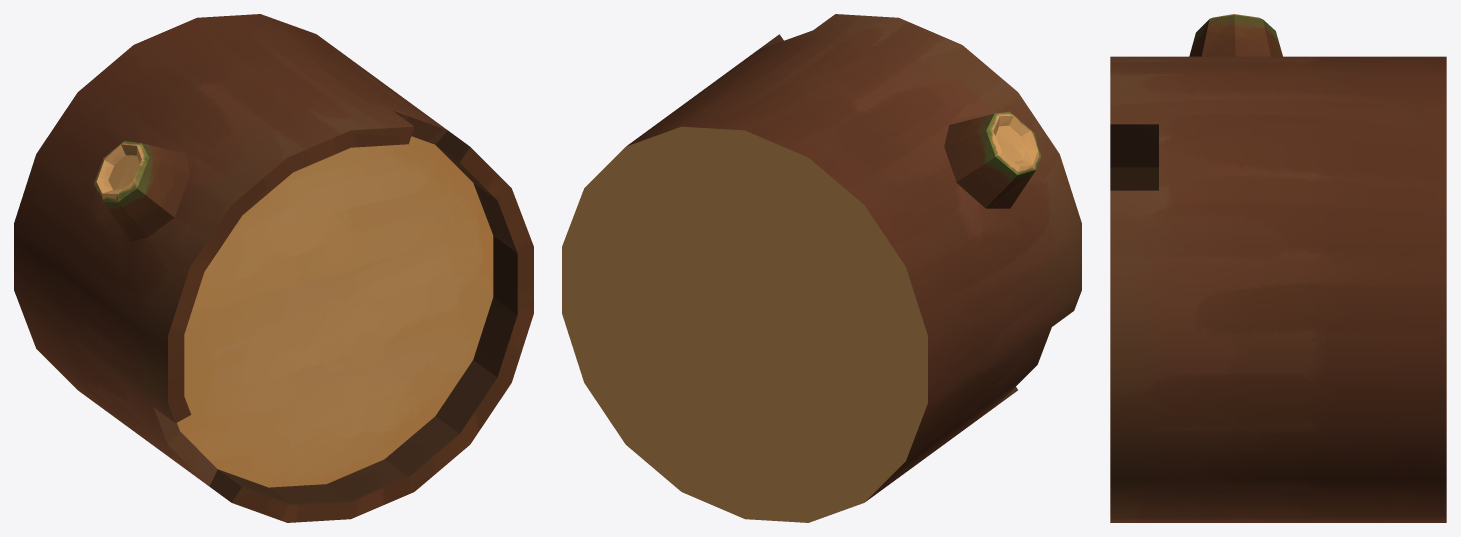
Rendered from Log.FBX.
3 renders of one model, left to right at view 1: azimuth 30°, elevation 25°; view 2: azimuth 150°, elevation 25°; view 3: azimuth 270°, elevation 25°, orthographic. The views are drawn at different scales.
Parts seen in each view (by area): view 1: Log; view 2: Log; view 3: Log.
Part boxes in pixels (x1,y1,x2,y2): Log: [14, 14, 533, 522]; Log: [562, 14, 1081, 522]; Log: [1110, 14, 1446, 522].
Bounding box in the file's own units: 451 × 446 × 320.
